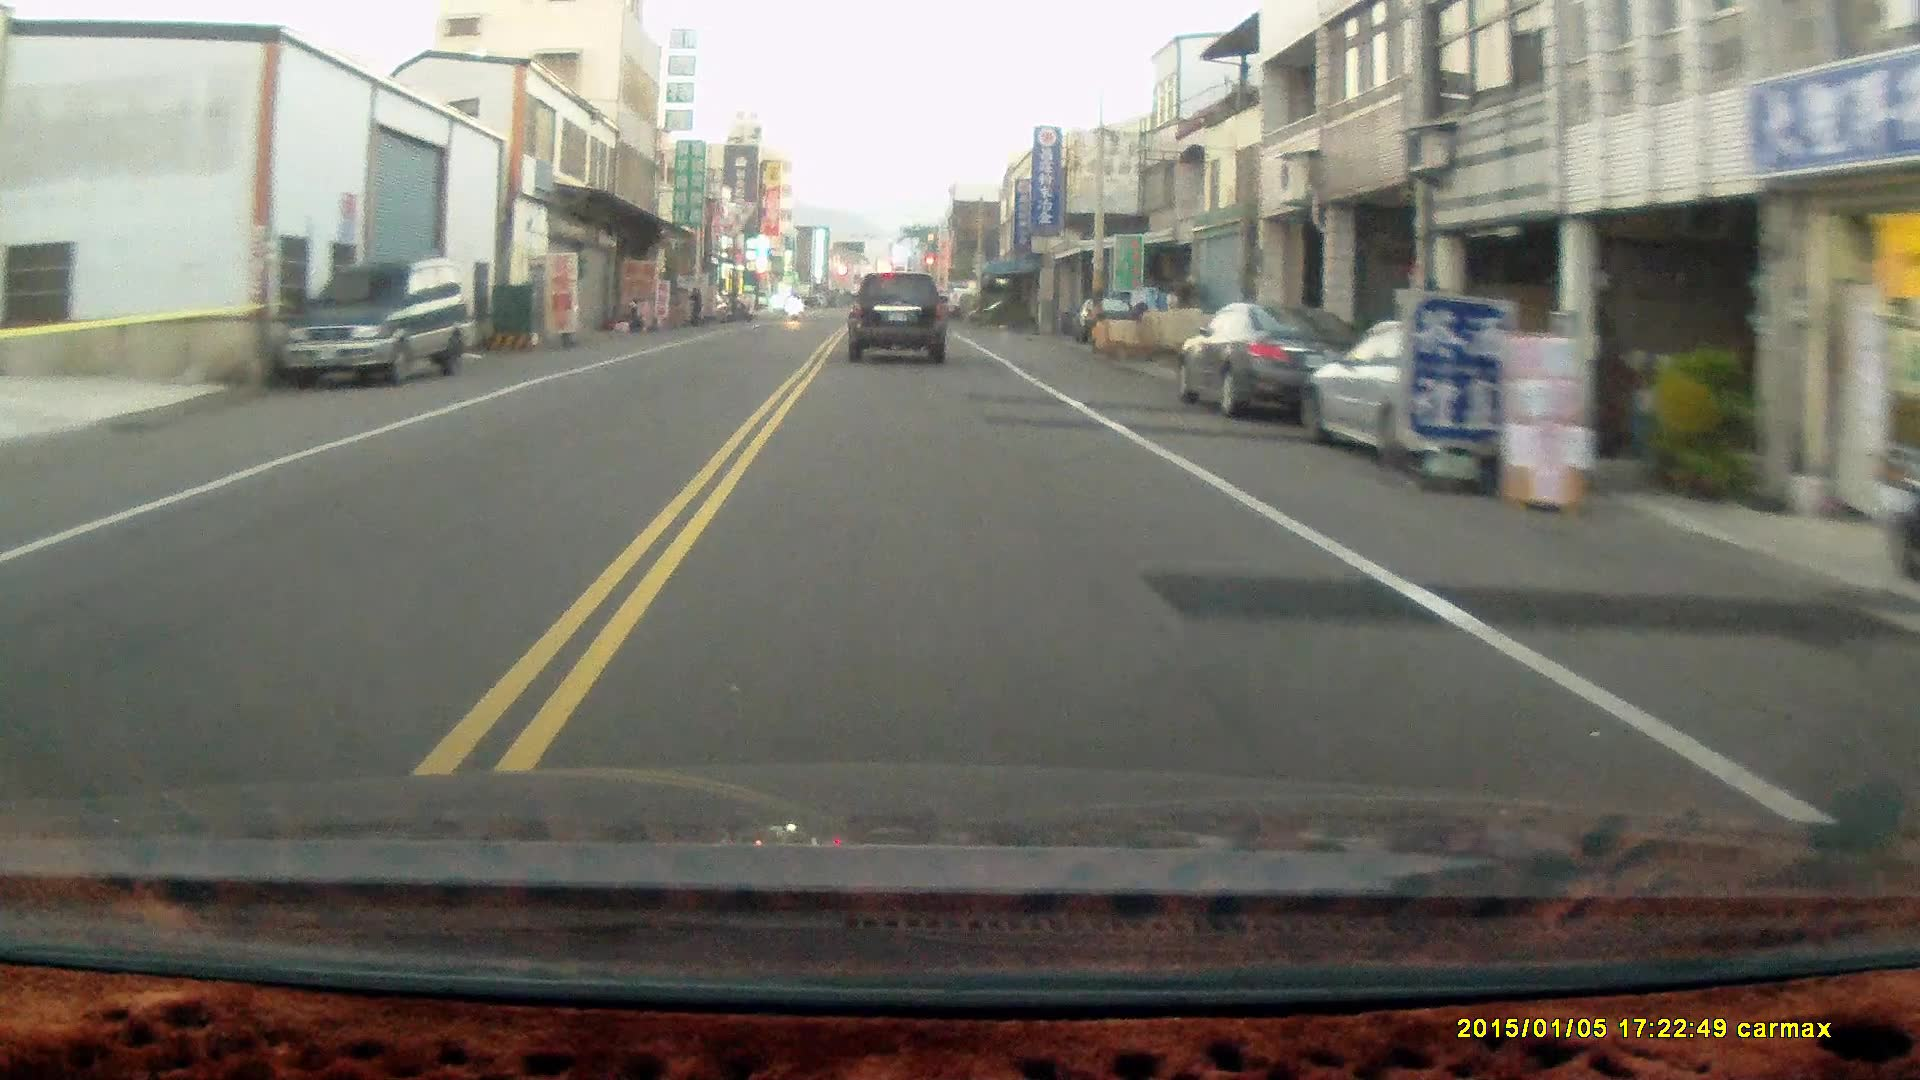pedestrian: (683, 282, 703, 329)
vehicle: (1302, 323, 1588, 481), (275, 254, 475, 390), (1173, 303, 1373, 424), (846, 271, 949, 365)
